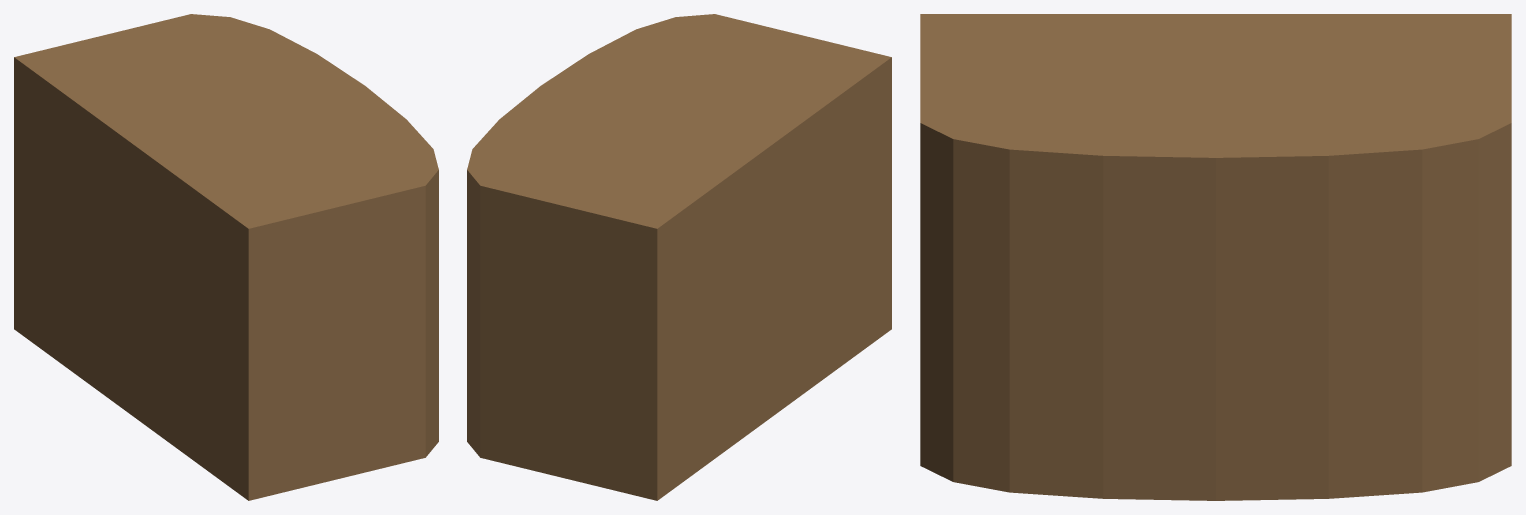
File: quaternius-platformer-platform-center-right.glb
3 views of the same model, side by side, from view 1: azimuth 30°, elevation 25°; view 2: azimuth 150°, elevation 25°; view 3: azimuth 270°, elevation 25° (orthographic). The views are drawn at different scales.
Visible parts, largest first — view 1: Platform_CenterRight; view 2: Platform_CenterRight; view 3: Platform_CenterRight.
Part boxes in pixels (x1,y1,x2,y2): Platform_CenterRight: (14,14,438,500); Platform_CenterRight: (467,14,891,500); Platform_CenterRight: (920,14,1511,500).
Size of the model in its own units: 1.8 by 2 by 3.13.
